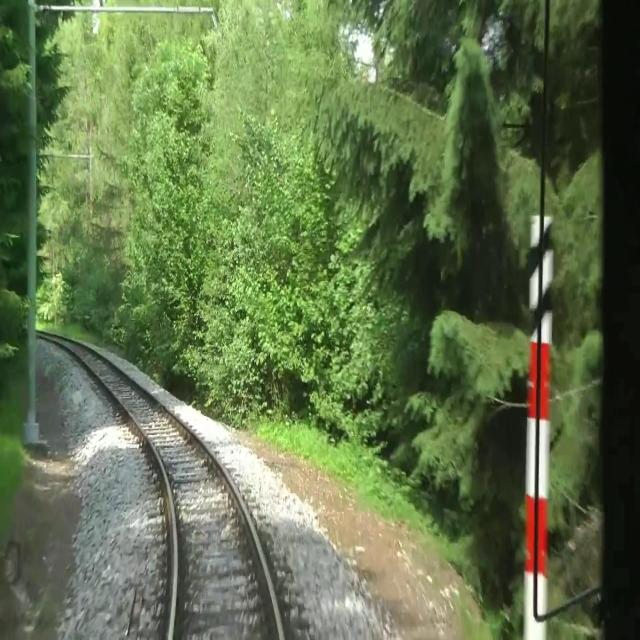rail-track: (57, 338, 279, 639)
